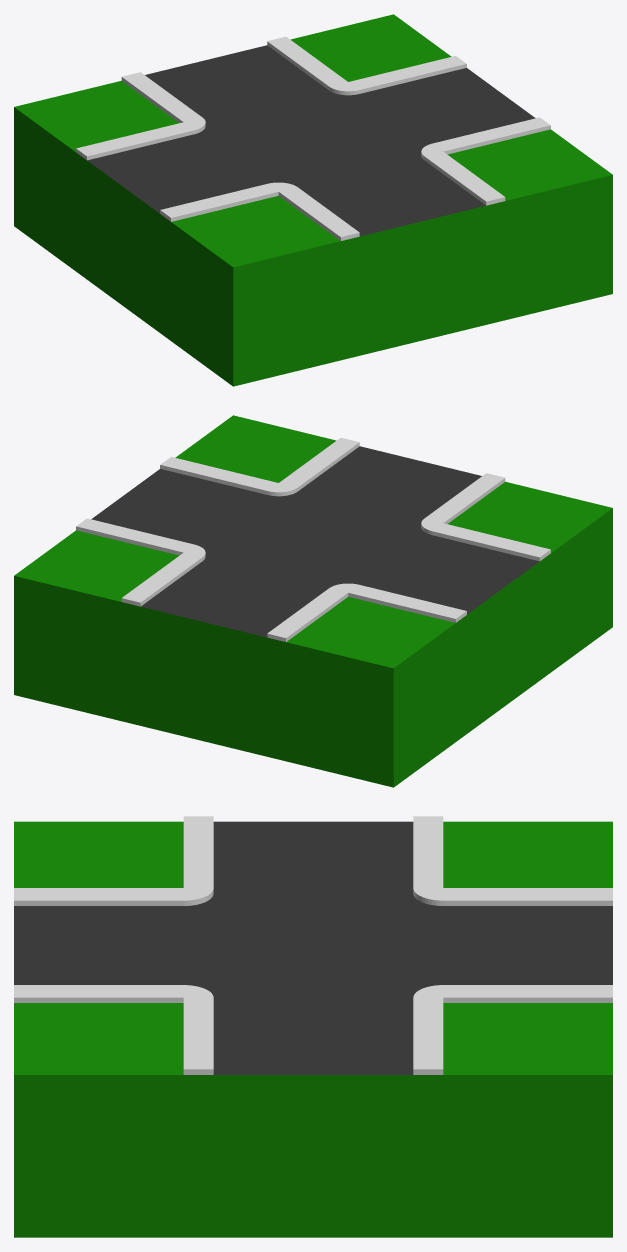
File: S_Intersection.fbx
3 views of the same model, one above another, from view 1: azimuth 30°, elevation 25°; view 2: azimuth 150°, elevation 25°; view 3: azimuth 270°, elevation 25° (orthographic). The views are drawn at different scales.
Visible parts, largest first — view 1: Cube; view 2: Cube; view 3: Cube.
Part boxes in pixels (<box>): Cube: <box>14,14,612,386</box>; Cube: <box>14,415,612,787</box>; Cube: <box>14,816,612,1237</box>.
Size of the model in its own units: 200 by 62 by 200.
